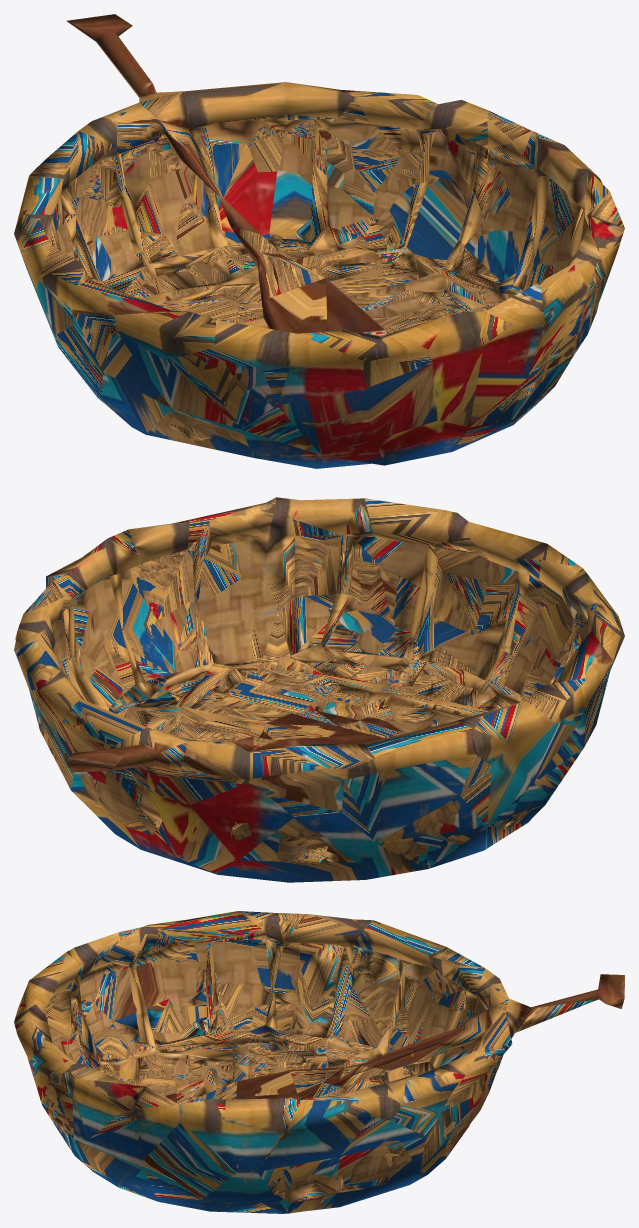
Rendered from thuyen-thung.glb.
3 views of the same model, one above another, from view 1: azimuth 30°, elevation 25°; view 2: azimuth 150°, elevation 25°; view 3: azimuth 270°, elevation 25° (orthographic). The views are drawn at different scales.
Bounding box in the file's own units: 0.7819 × 0.2794 × 0.9966.
Materials: 1 (1 with a texture image).
